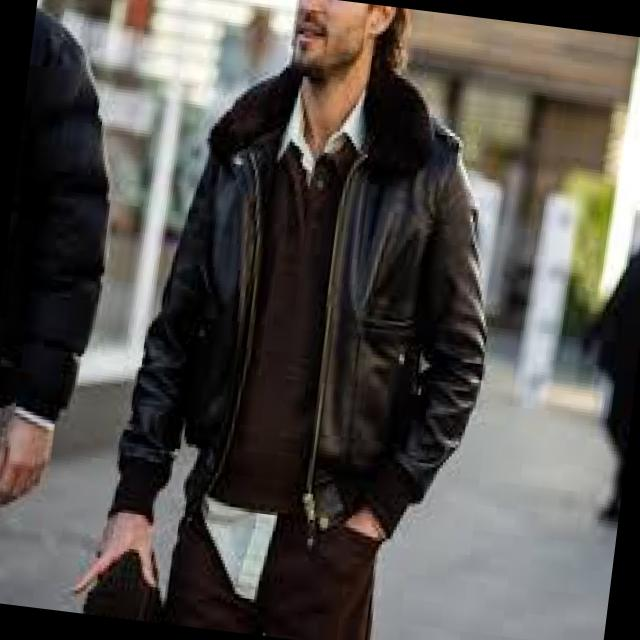Jacket: (61, 47, 503, 562)
